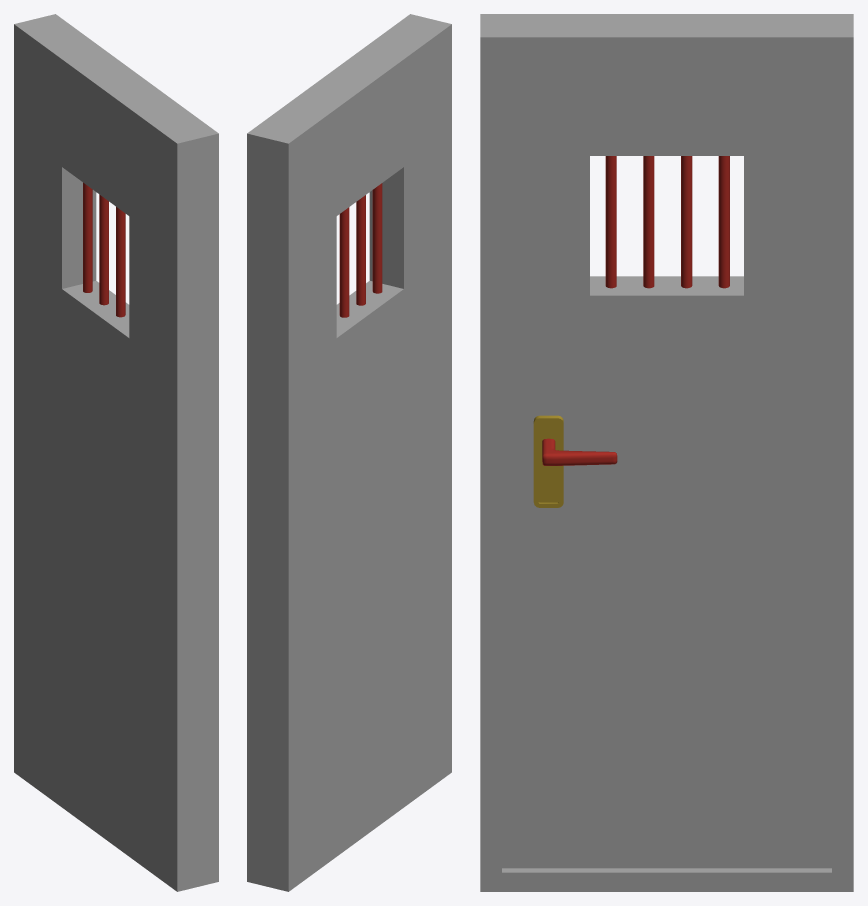
Rendered from door.glb.
3 renders of one model, left to right at view 1: azimuth 30°, elevation 25°; view 2: azimuth 150°, elevation 25°; view 3: azimuth 270°, elevation 25°, orthographic. The views are drawn at different scales.
Visible parts, largest first — view 1: door_joined; view 2: door_joined; view 3: door_joined.
Part boxes in pixels (<box>): door_joined: <box>14,14,218,891</box>; door_joined: <box>247,14,451,891</box>; door_joined: <box>480,14,853,891</box>.
Bounding box in the file's own units: 0.184 × 1.97 × 0.7806.
